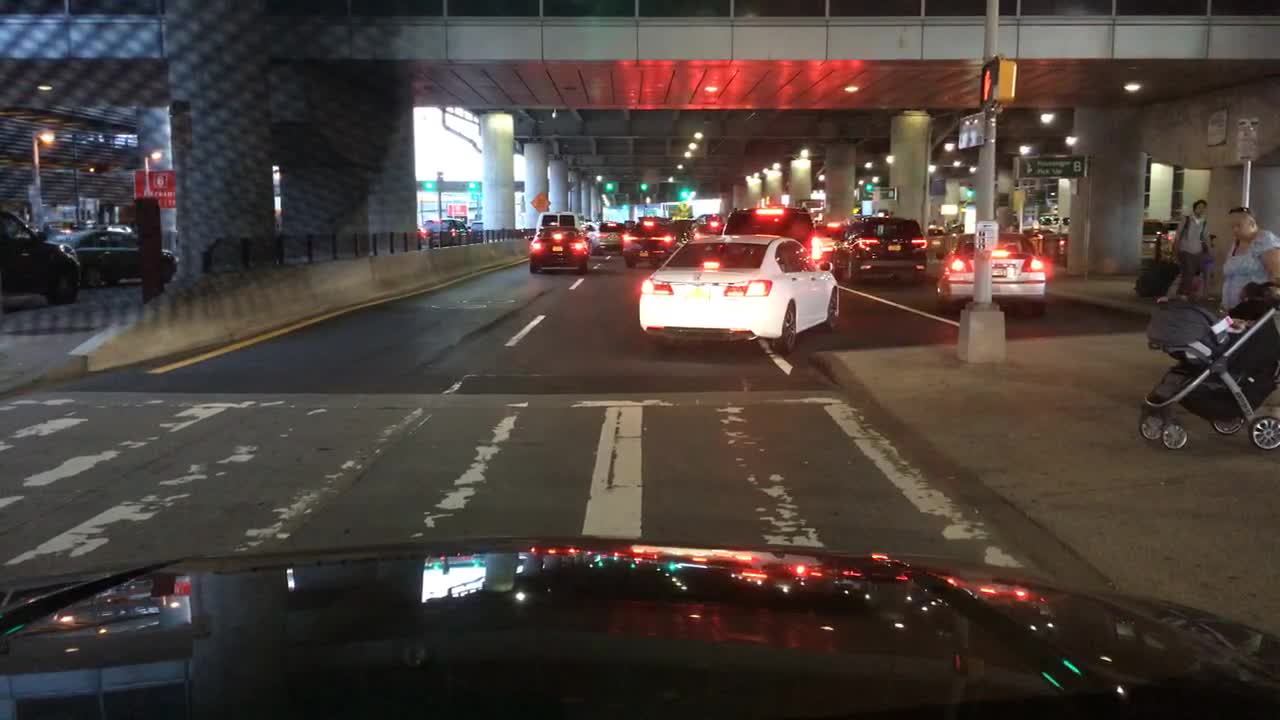car: (637, 231, 839, 354), (935, 231, 1047, 312), (46, 225, 179, 291), (722, 202, 834, 277), (0, 206, 82, 304), (829, 213, 927, 287), (526, 222, 589, 275), (622, 216, 676, 266), (534, 211, 579, 245), (1140, 216, 1170, 262), (595, 219, 624, 253), (693, 211, 724, 235), (1043, 231, 1066, 263), (430, 218, 466, 238), (578, 219, 600, 250), (814, 222, 843, 240), (416, 217, 441, 236), (1163, 218, 1181, 244), (1034, 229, 1052, 250), (468, 218, 484, 232)
person: (1216, 203, 1278, 310), (1172, 199, 1206, 303), (1228, 281, 1272, 317), (1200, 232, 1218, 297)
traffic light: (979, 55, 1016, 108), (599, 180, 619, 195), (674, 186, 690, 200), (421, 178, 435, 192), (634, 180, 650, 191), (465, 180, 479, 192), (861, 179, 872, 193), (963, 187, 975, 199)
traffic sign: (130, 169, 179, 210), (1013, 153, 1087, 180), (956, 112, 986, 149), (1235, 116, 1259, 162), (528, 189, 550, 216), (666, 200, 693, 220), (873, 184, 898, 201), (445, 202, 469, 217), (643, 203, 658, 218)
